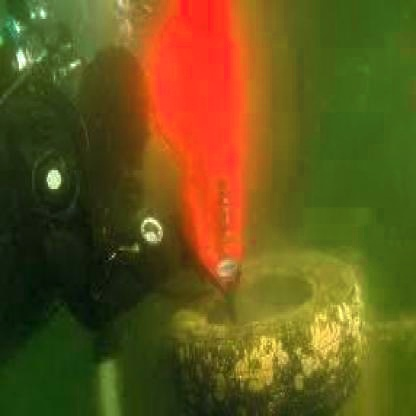tire: (160, 243, 371, 416)
